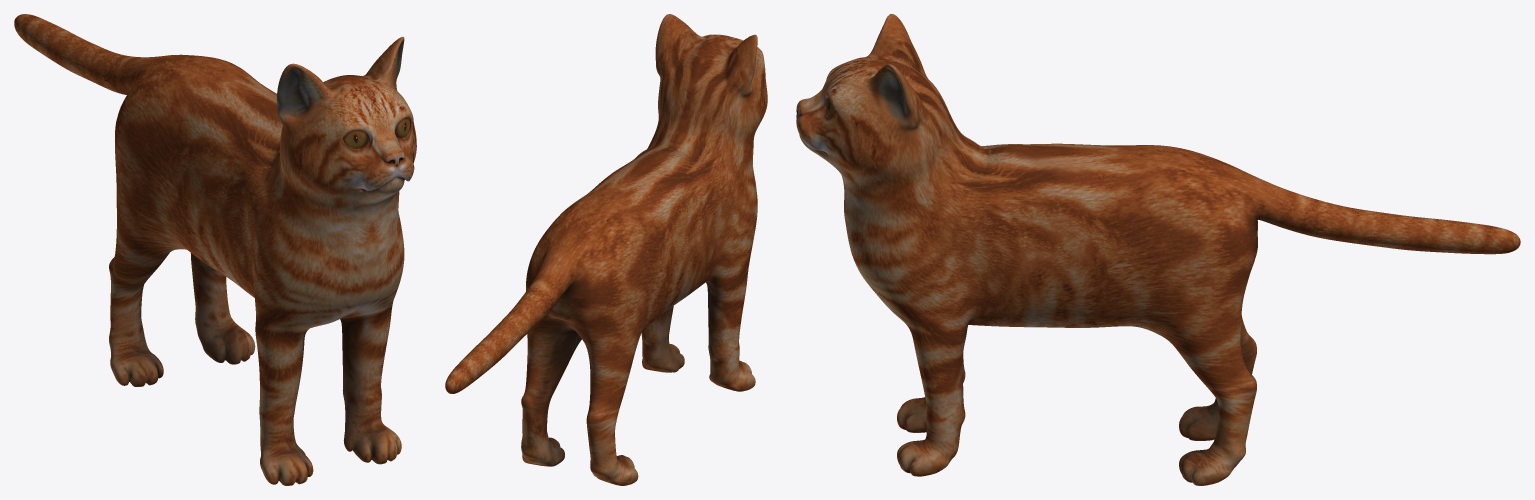
File: cat.glb
3 views of the same model, side by side, from view 1: azimuth 30°, elevation 25°; view 2: azimuth 150°, elevation 25°; view 3: azimuth 270°, elevation 25° (orthographic). The views are drawn at different scales.
Parts seen in each view (by area): view 1: Cat; view 2: Cat; view 3: Cat.
Part boxes in pixels (box(x1,y1,x2,y2)): Cat: box(14, 14, 416, 485); Cat: box(445, 14, 767, 485); Cat: box(796, 14, 1520, 485).
Size of the model in its own units: 12.56 by 38.48 by 60.52.
1 material, 1 textured.
